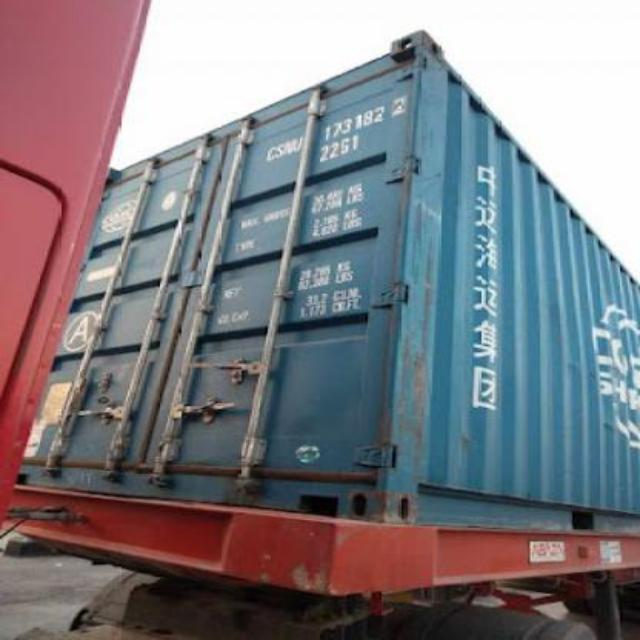1: (318, 118, 334, 142), (352, 108, 362, 128)
2: (390, 94, 408, 115), (372, 97, 384, 127)
3: (340, 106, 352, 136)
7: (331, 110, 344, 140)
8: (362, 102, 376, 128)
C: (262, 142, 276, 160)
M: (282, 136, 292, 158)
S: (274, 139, 284, 159)
U: (288, 135, 304, 155)
